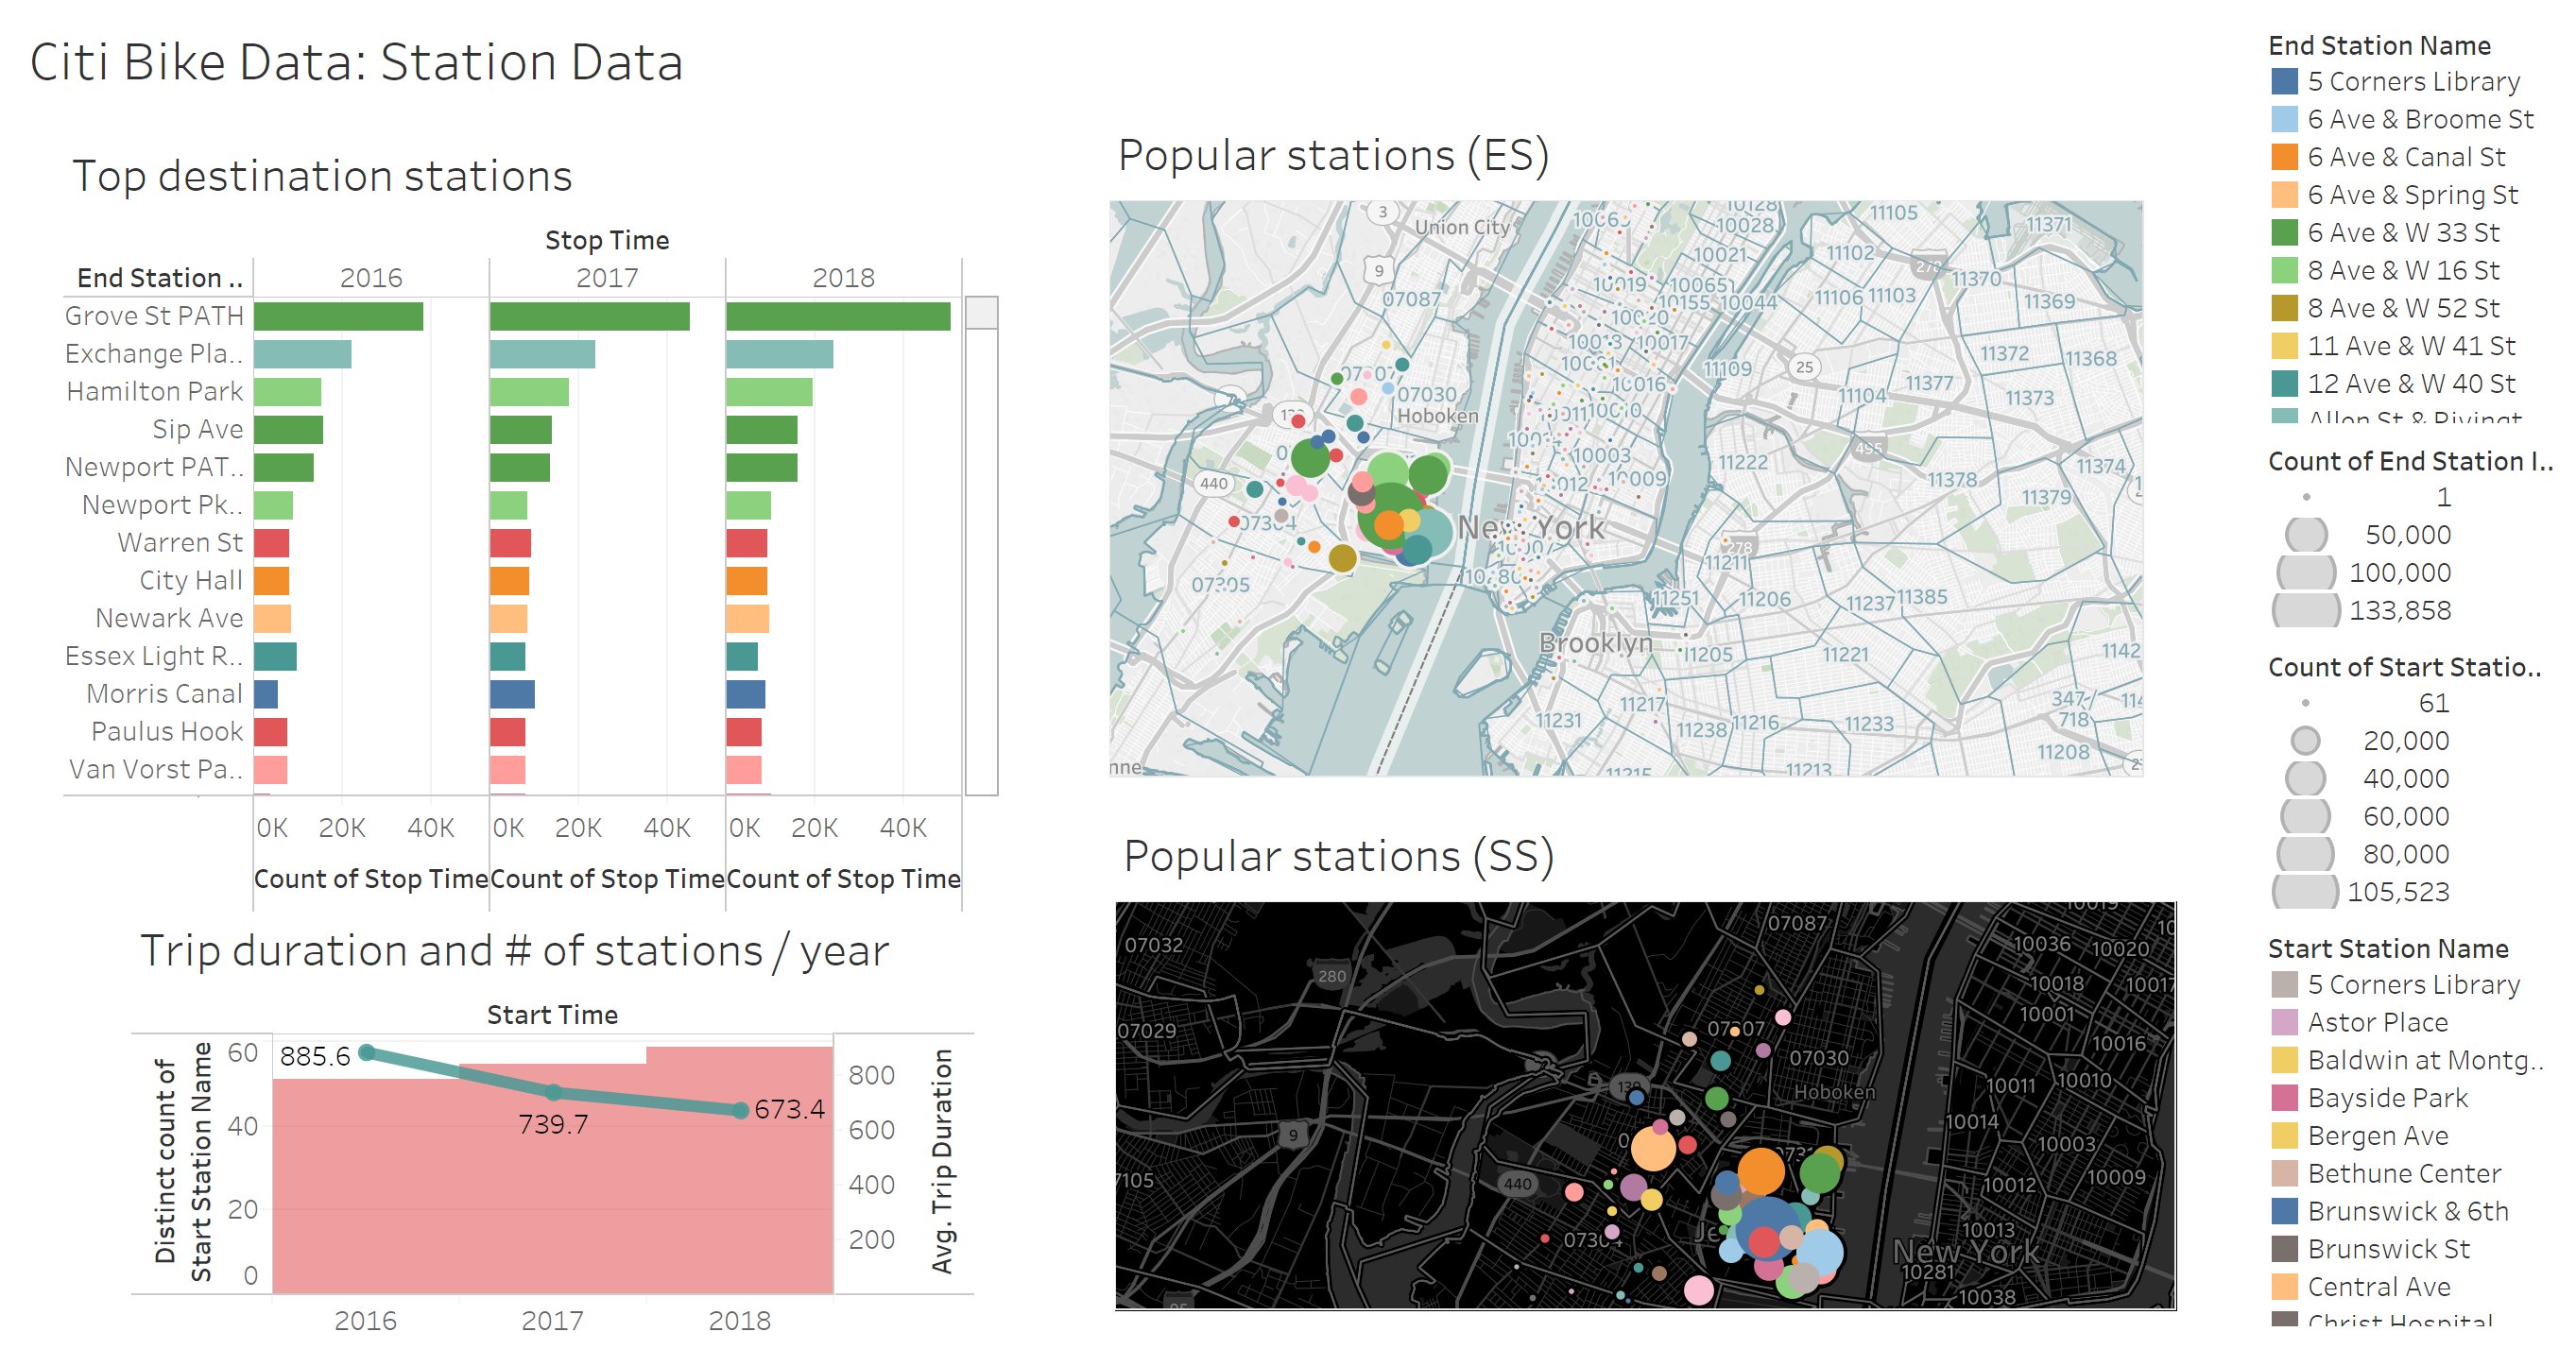

The page's visual inventory and layout, read from the dashboard file:
{"tool":"tableau","page":{"name":"Station Dashboard ","canvas":[1000,1000],"units":"permille","ordinal":2},"visuals":[{"type":"title","box":[5.9,11.2,870.9,64.4]},{"type":"legend","title":"Top destination stations ","param":"[federated.05p89nf1blcklp1b6y2vs13xkesh (copy)].[none:End Station Name:nk]","box":[876.7,11.2,117.4,308.1]},{"type":"worksheet","title":"Popular stations (ES)","mark":"Automatic","rows":["End Station Latitude"],"cols":["End Station Longitude"],"box":[427.7,77,407.9,505.6]},{"type":"worksheet","title":"Top destination stations ","mark":"Automatic","rows":["End Station Name"],"cols":["Stop Time ","Stop Time "],"box":[22,92.4,369,589.6]},{"type":"legend","title":"Popular stations (ES)","param":"[federated.05p89nf1blcklp1b6y2vs13xkesh (copy)].[cnt:End Station ID:qk]","box":[876.7,319.3,117.4,152.7]},{"type":"legend","title":"Popular stations (SS)","param":"[federated.05p89nf1blcklp1b6y2vs13xkesh (copy)].[cnt:Start Station ID:qk]","box":[876.7,472,117.4,208.7]},{"type":"worksheet","title":"Popular stations (SS)","mark":"Automatic","rows":["Start Station Latitude"],"cols":["Start Station Longitude"],"box":[429.9,596.6,418.2,380.9]},{"type":"worksheet","title":"Trip duration and # of stations / year","mark":"Heatmap","rows":["Start Station Name","Trip Duration"],"cols":["Start Time"],"box":[48.4,666.7,333.1,333.3]},{"type":"legend","title":"Popular stations (SS)","param":"[federated.05p89nf1blcklp1b6y2vs13xkesh (copy)].[none:Start Station Name:nk]","box":[876.7,680.7,117.4,308.1]}]}

Visuals, with their boxes on the dashboard's canvas, which has no fixed pixel size, in thousandths of its width and height (x1, y1, x2, y2). These are canvas units, not pixel positions in the 2576x1349 screenshot, which may show the page scaled, cropped or inside an application window:
title: [6,11,877,76]
"Top destination stations " legend: [877,11,994,319]
"Popular stations (ES)" worksheet: [428,77,836,583]
"Top destination stations " worksheet: [22,92,391,682]
"Popular stations (ES)" legend: [877,319,994,472]
"Popular stations (SS)" legend: [877,472,994,681]
"Popular stations (SS)" worksheet: [430,597,848,978]
"Trip duration and # of stations / year" worksheet (Heatmap marks): [48,667,382,1000]
"Popular stations (SS)" legend: [877,681,994,989]
